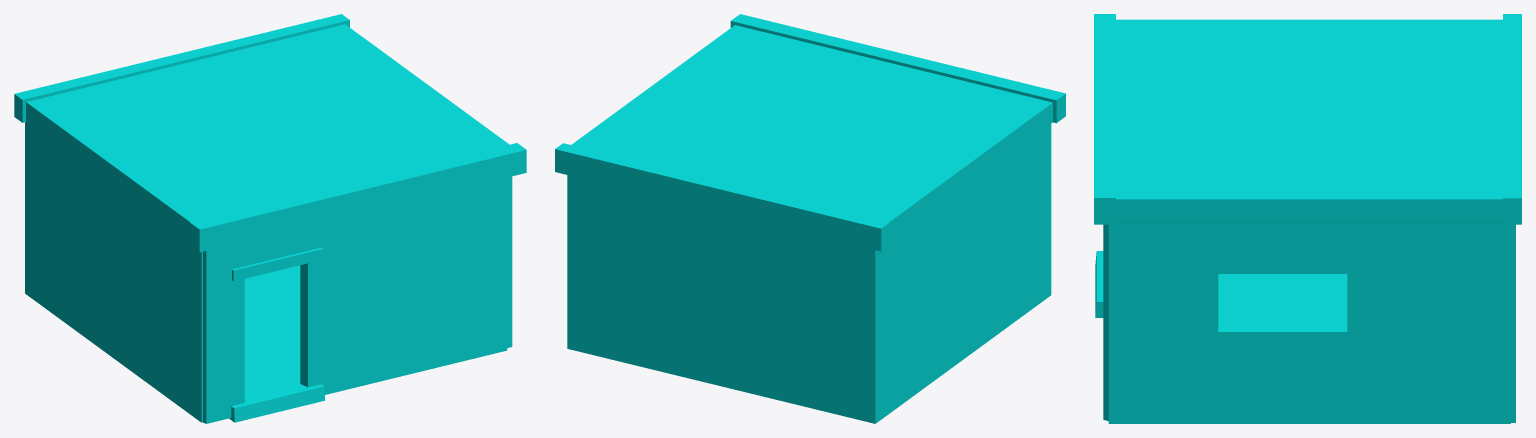
The model's file is SM_Bld_Building_05_Collision.fbx.
The picture shows the model from 3 angles, left to right: view 1: azimuth 30°, elevation 25°; view 2: azimuth 150°, elevation 25°; view 3: azimuth 270°, elevation 25°; orthographic projection. The views are drawn at different scales.
Visible parts, largest first — view 1: SM_Bld_Building_05_Collision; view 2: SM_Bld_Building_05_Collision; view 3: SM_Bld_Building_05_Collision.
Boxes of the visible parts, bbox=[...] form: SM_Bld_Building_05_Collision: bbox=[14, 14, 526, 423]; SM_Bld_Building_05_Collision: bbox=[555, 14, 1065, 423]; SM_Bld_Building_05_Collision: bbox=[1094, 14, 1521, 423].
Size of the model in its own units: 538 by 317 by 527.
